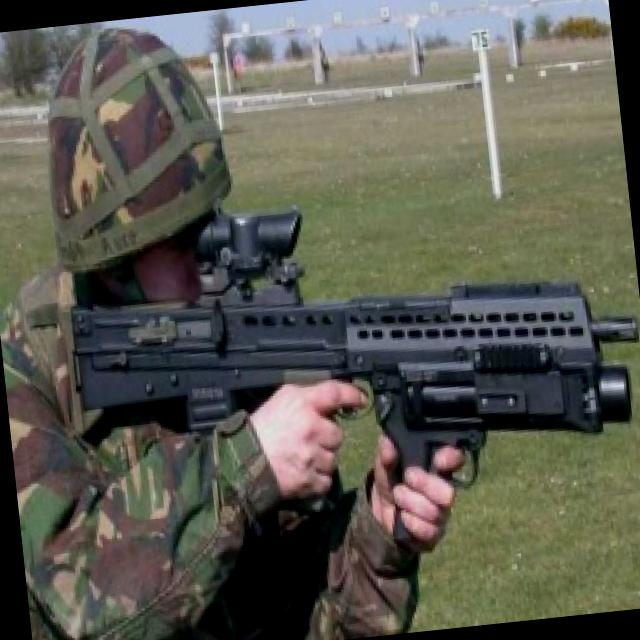long weapon: (59, 177, 636, 495)
